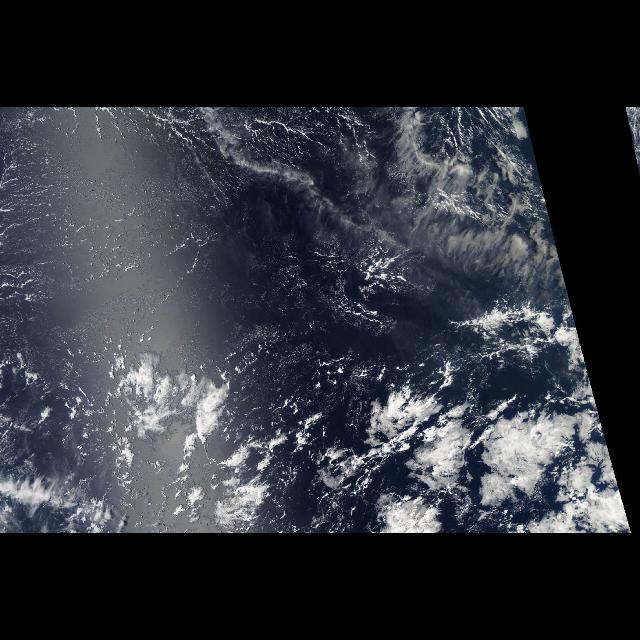Sugar: (2, 111, 416, 395)
